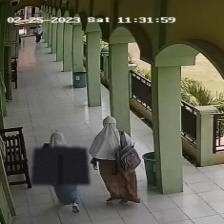Cadar_Niqab: (30, 127, 89, 184)
